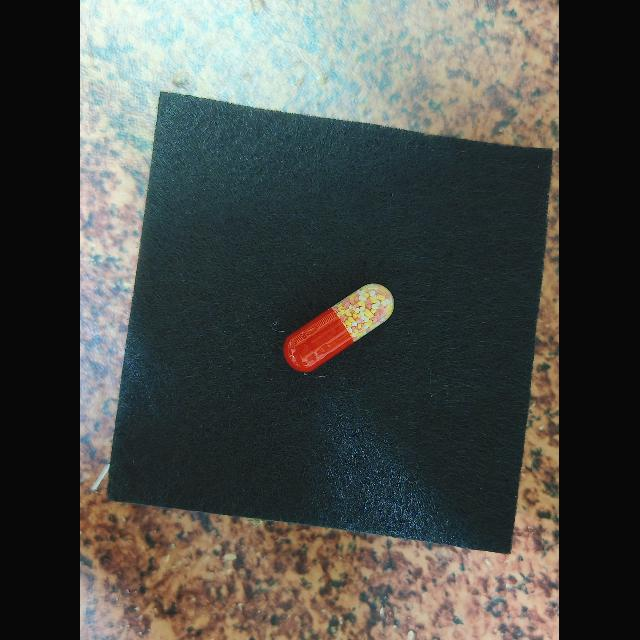Intact Capsule: (284, 283, 395, 372)
